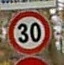limite 30: (6, 9, 52, 54)
